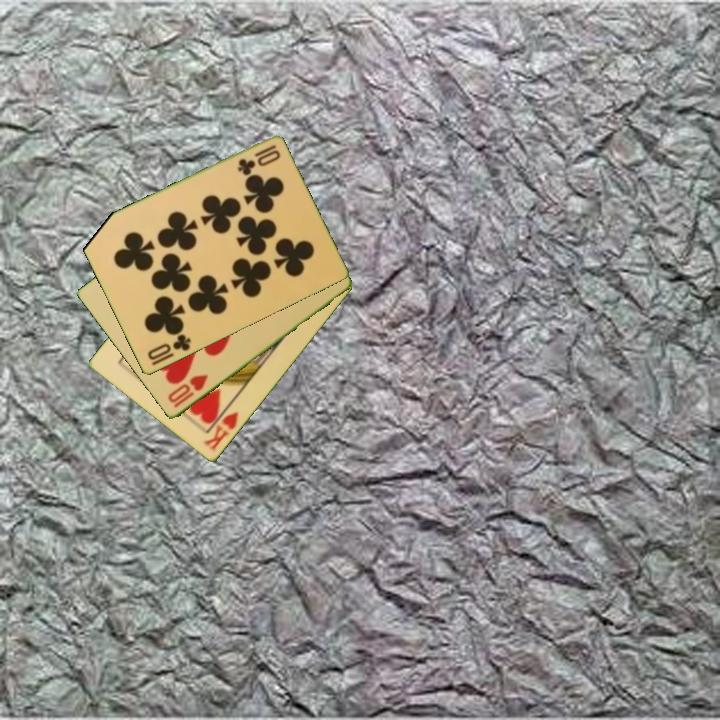10c: (144, 331, 194, 369), (234, 142, 283, 178)
10h: (164, 371, 211, 411)
Kh: (200, 400, 241, 455)
